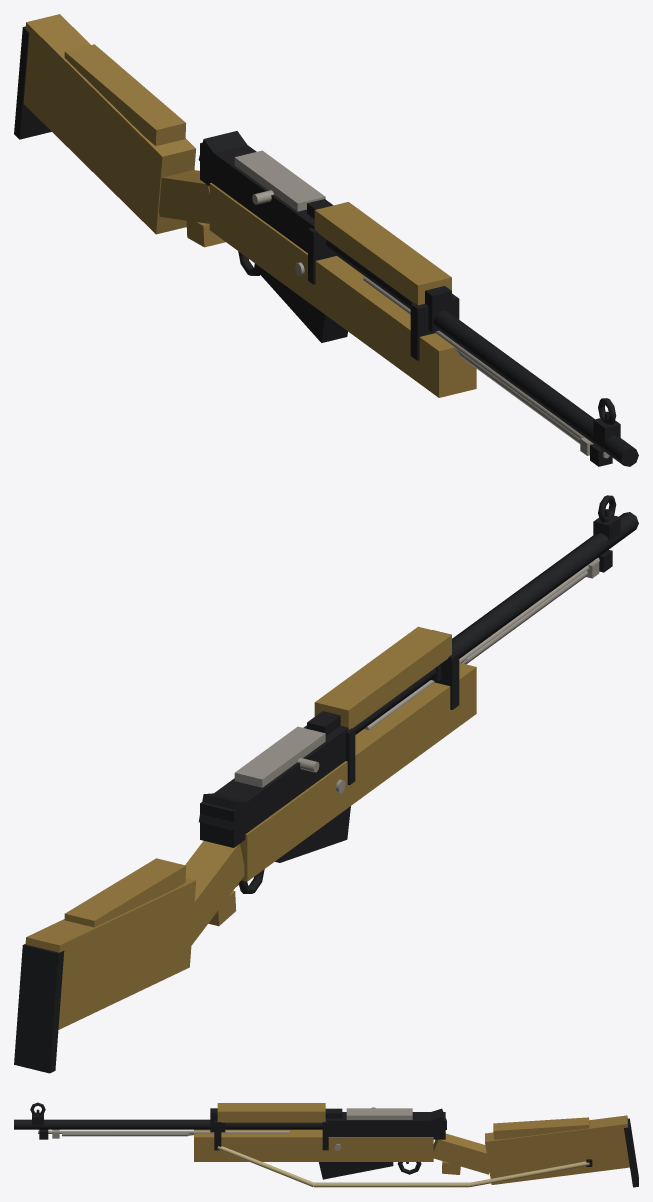
File: sks-carbine.glb
3 renders of one model, top to bottom at view 1: azimuth 30°, elevation 25°; view 2: azimuth 150°, elevation 25°; view 3: azimuth 270°, elevation 25°, orthographic. The views are drawn at different scales.
Parts seen in each view (by area): view 1: Mesh_Buttstock, Mesh_StockReceiver, Mesh_UpperHandguard, Mesh_Barrel, Mesh_Comb, Mesh_Receiver, Mesh_BoltCarrier, Mesh_Wrist, Mesh_Magazine, Mesh_ReceiverCover, Mesh_Buttplate, Mesh_CleaningRod (+5 smaller); view 2: Mesh_Buttstock, Mesh_StockReceiver, Mesh_UpperHandguard, Mesh_Receiver, Mesh_Barrel, Mesh_Buttplate, Mesh_Comb, Mesh_Wrist, Mesh_BoltCarrier, Mesh_ReceiverCover, Mesh_Magazine, Mesh_CleaningRod (+1 smaller); view 3: Mesh_StockReceiver, Mesh_Buttstock, Mesh_Barrel, Mesh_Receiver, Mesh_UpperHandguard, Mesh_Wrist, Mesh_Comb, Mesh_SlingSegment2, Mesh_CleaningRod, Mesh_Magazine, Mesh_BoltCarrier, Mesh_SlingSegment3 (+10 smaller).
Part boxes in pixels (x1,y1,x2,y2): Mesh_Buttstock: (23, 14, 195, 234); Mesh_StockReceiver: (209, 183, 476, 397); Mesh_UpperHandguard: (314, 202, 451, 305); Mesh_Barrel: (325, 240, 638, 466); Mesh_Comb: (64, 44, 186, 145); Mesh_Receiver: (200, 142, 314, 252); Mesh_BoltCarrier: (234, 150, 325, 211); Mesh_Wrist: (159, 170, 209, 223); Mesh_Magazine: (254, 263, 347, 342); Mesh_ReceiverCover: (198, 131, 247, 197); Mesh_Buttplate: (14, 26, 51, 139); Mesh_CleaningRod: (363, 276, 609, 458); Mesh_Buttstock: (25, 878, 196, 1029); Mesh_StockReceiver: (240, 663, 476, 881); Mesh_UpperHandguard: (314, 626, 451, 729); Mesh_Receiver: (200, 725, 348, 847); Mesh_Barrel: (353, 512, 638, 734); Mesh_Buttplate: (14, 944, 64, 1073); Mesh_Comb: (64, 858, 185, 927); Mesh_Wrist: (185, 841, 244, 945); Mesh_BoltCarrier: (234, 726, 325, 787); Mesh_ReceiverCover: (198, 793, 269, 830); Mesh_Magazine: (275, 806, 350, 862); Mesh_CleaningRod: (364, 558, 599, 729); Mesh_StockReceiver: (194, 1129, 433, 1161); Mesh_Buttstock: (485, 1115, 629, 1184); Mesh_Barrel: (14, 1119, 322, 1129); Mesh_Receiver: (325, 1112, 445, 1139); Mesh_UpperHandguard: (217, 1103, 325, 1122); Mesh_Wrist: (433, 1133, 489, 1174); Mesh_Comb: (493, 1117, 589, 1139); Mesh_SlingSegment2: (313, 1182, 469, 1187); Mesh_CleaningRod: (38, 1130, 289, 1133); Mesh_Magazine: (319, 1162, 393, 1179); Mesh_BoltCarrier: (346, 1108, 412, 1119); Mesh_SlingSegment3: (469, 1161, 589, 1186).
Bounding box in the file's own units: 0.065 × 0.1482 × 1.04.
